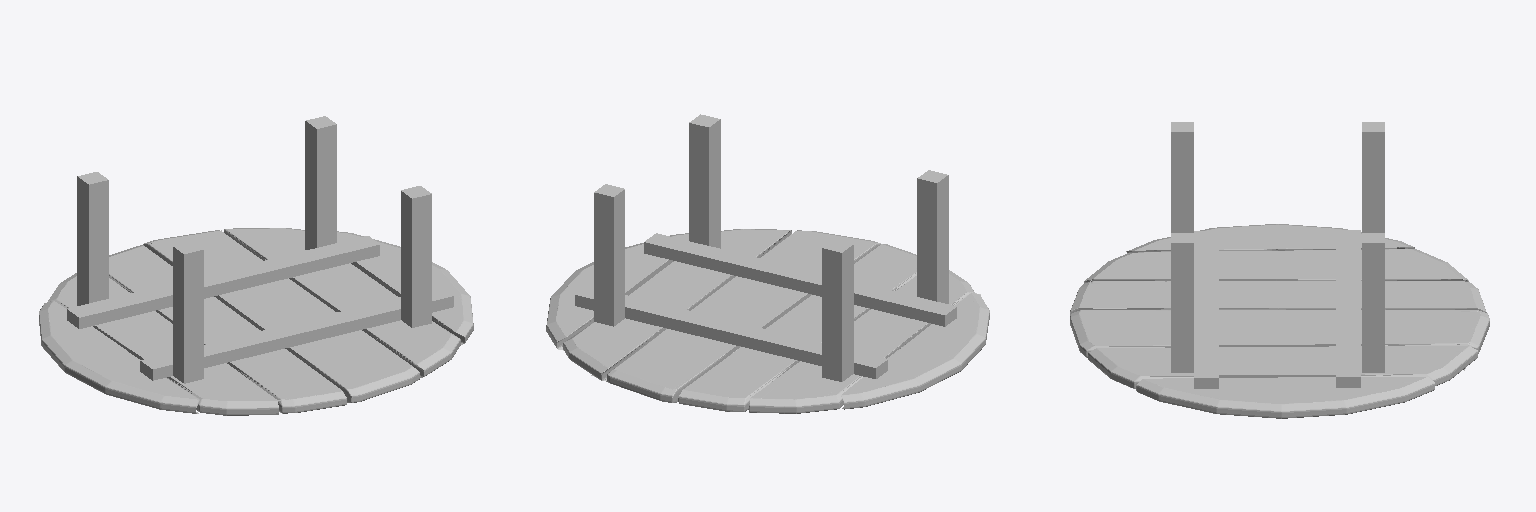
The model's file is tableFinal_3.obj.
The picture shows the model from 3 angles: view 1: azimuth 30°, elevation 25°; view 2: azimuth 150°, elevation 25°; view 3: azimuth 270°, elevation 25°; orthographic projection.
Visible parts, largest first — view 1: Cylinder.005, Cube.004_Cube.005, Cube; view 2: Cylinder.005, Cube.004_Cube.005, Cube; view 3: Cylinder.005, Cube.004_Cube.005, Cube.
Part boxes in pixels (left/top/right/bottom): Cylinder.005: left=39, top=228, right=473, bottom=415; Cube.004_Cube.005: left=77, top=116, right=431, bottom=383; Cube: left=67, top=236, right=453, bottom=380; Cylinder.005: left=546, top=229, right=989, bottom=413; Cube.004_Cube.005: left=594, top=114, right=948, bottom=381; Cube: left=575, top=233, right=956, bottom=378; Cylinder.005: left=1070, top=224, right=1489, bottom=418; Cube.004_Cube.005: left=1171, top=122, right=1384, bottom=372; Cube: left=1194, top=230, right=1360, bottom=388.
Bounding box in the file's own units: 2.21 × 0.7929 × 2.09.